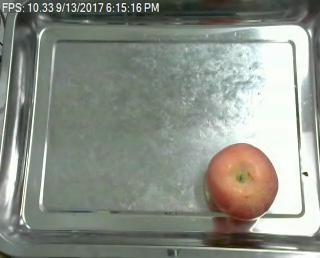apple: (206, 142, 278, 222)
